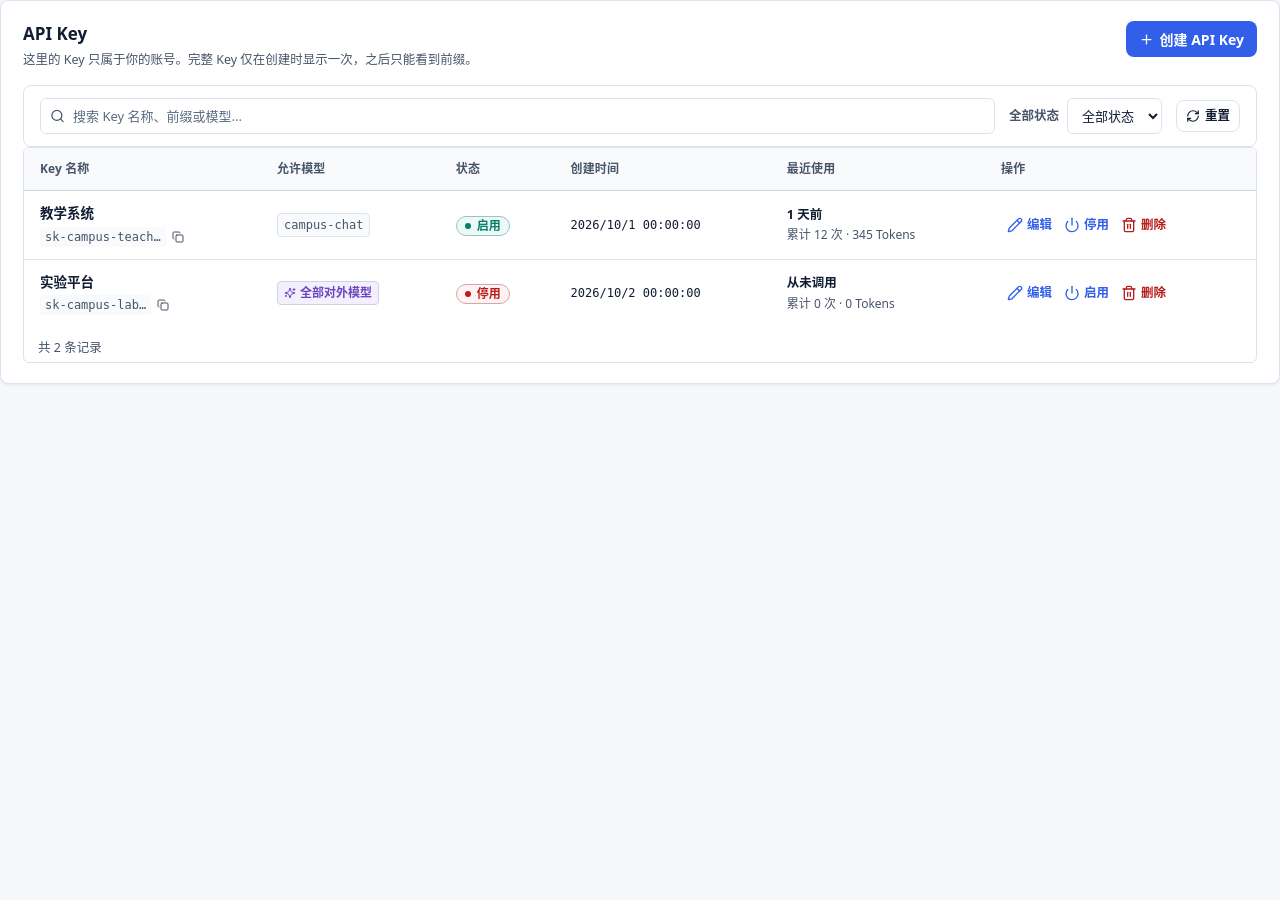
Scenario: personal console API keys › reports a model outside the tenant bound without closing the drawer
expect the text "教学系统" is shown: met, box [40, 204, 94, 222]
Click the button "编辑" in the row of "教学系统".
click(1030, 225)  # box [1001, 212, 1058, 238]
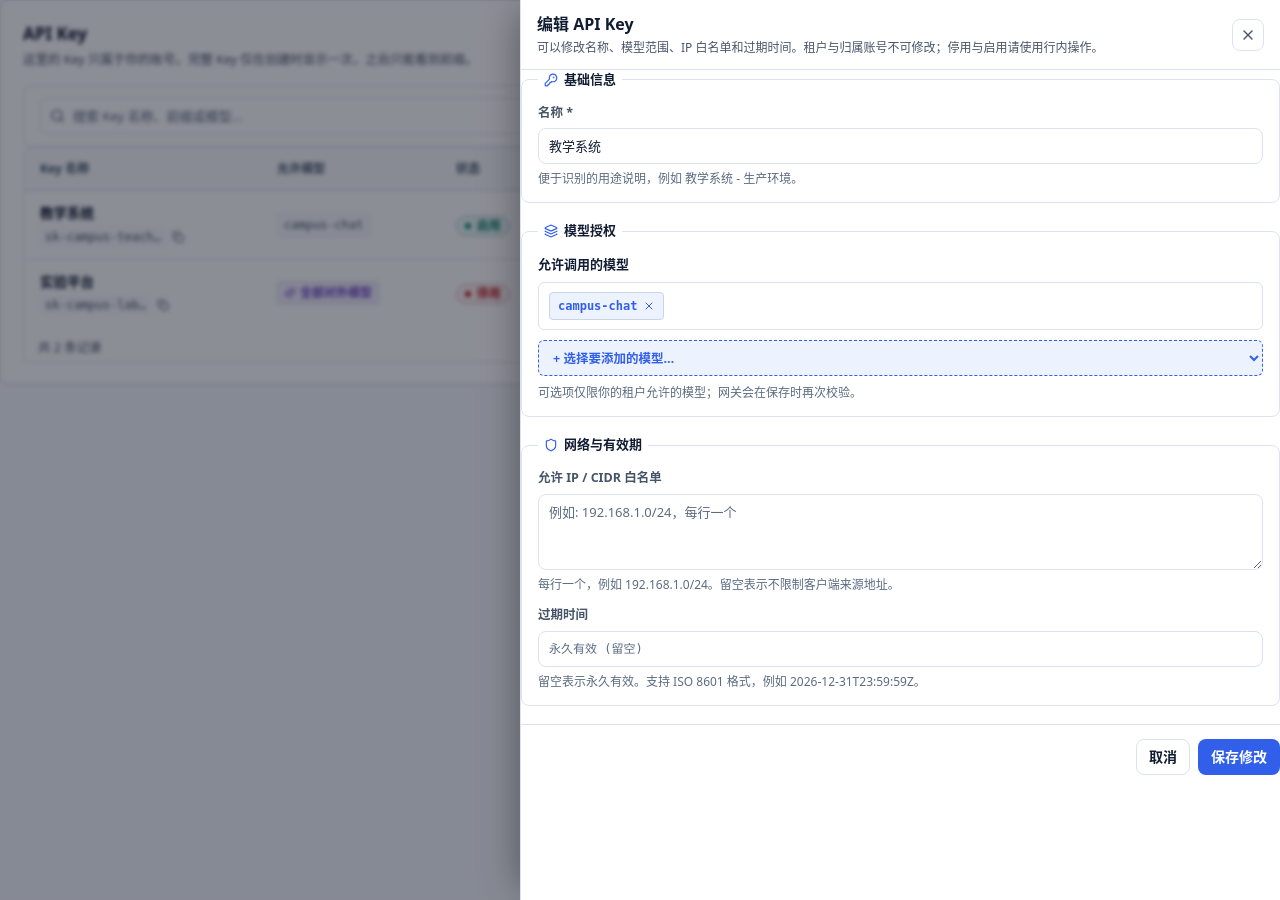
Click the button "保存修改".
click(1239, 757)  # box [1198, 739, 1279, 775]
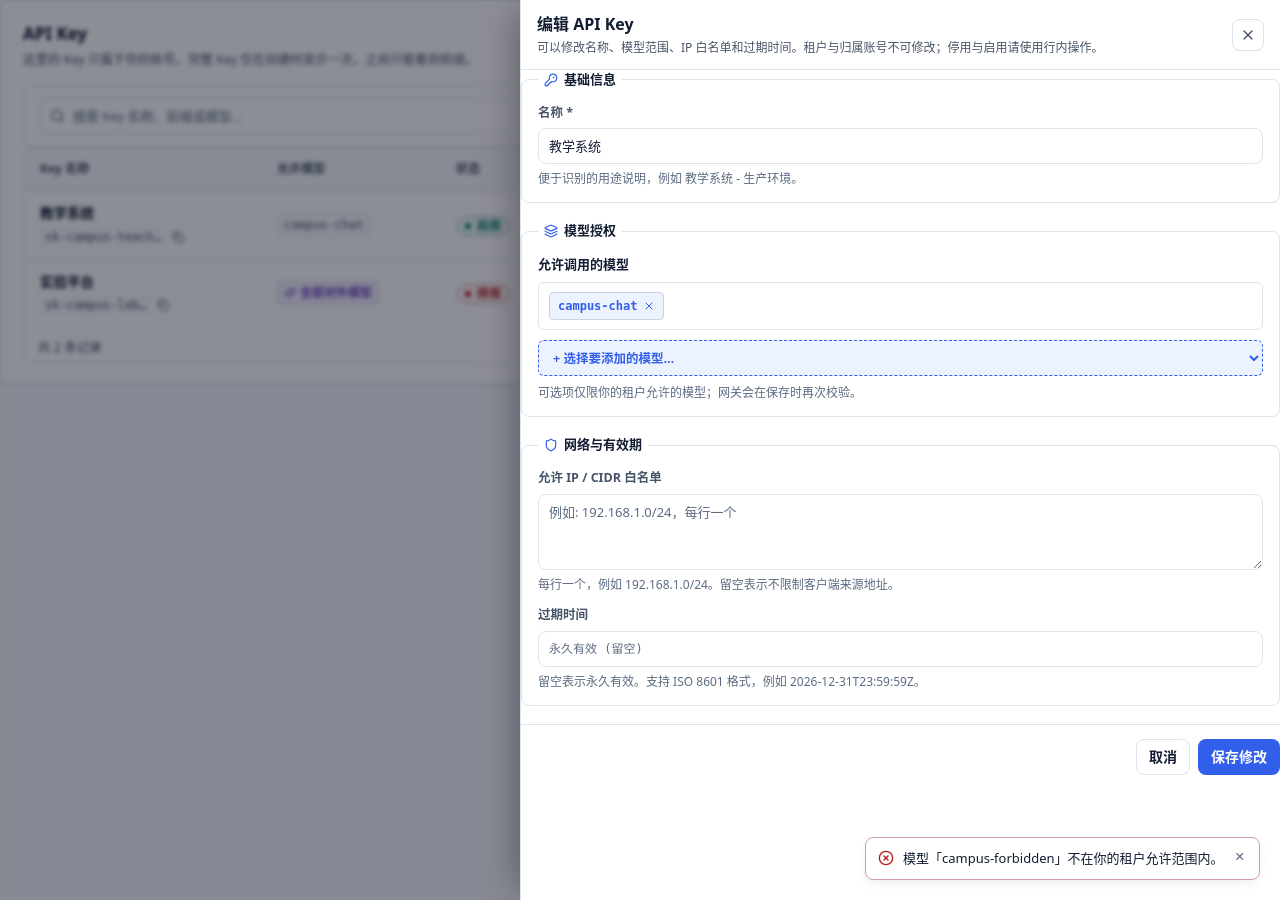
expect the dialog is shown: met, box [520, 0, 1279, 899]
expect the text "模型「campus-forbidden」不在你的租户允许范围内。" is shown: met, box [903, 848, 1224, 868]
